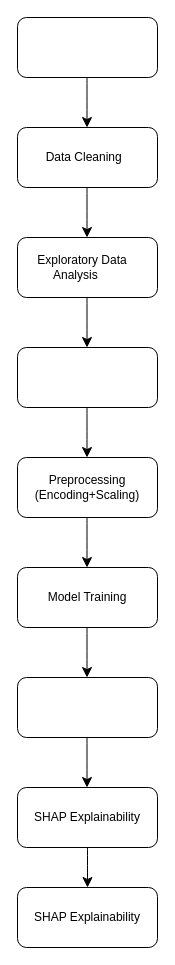
Some shapes in this 175 by 965 pixel diagram are drawn without their labels. Here are the shapes that lost their labels. From the top down, the centre of each, then its label:
[87,47]: Raw Dataset
[87,377]: Feature Engineering
[87,707]: LightGBM Selected
